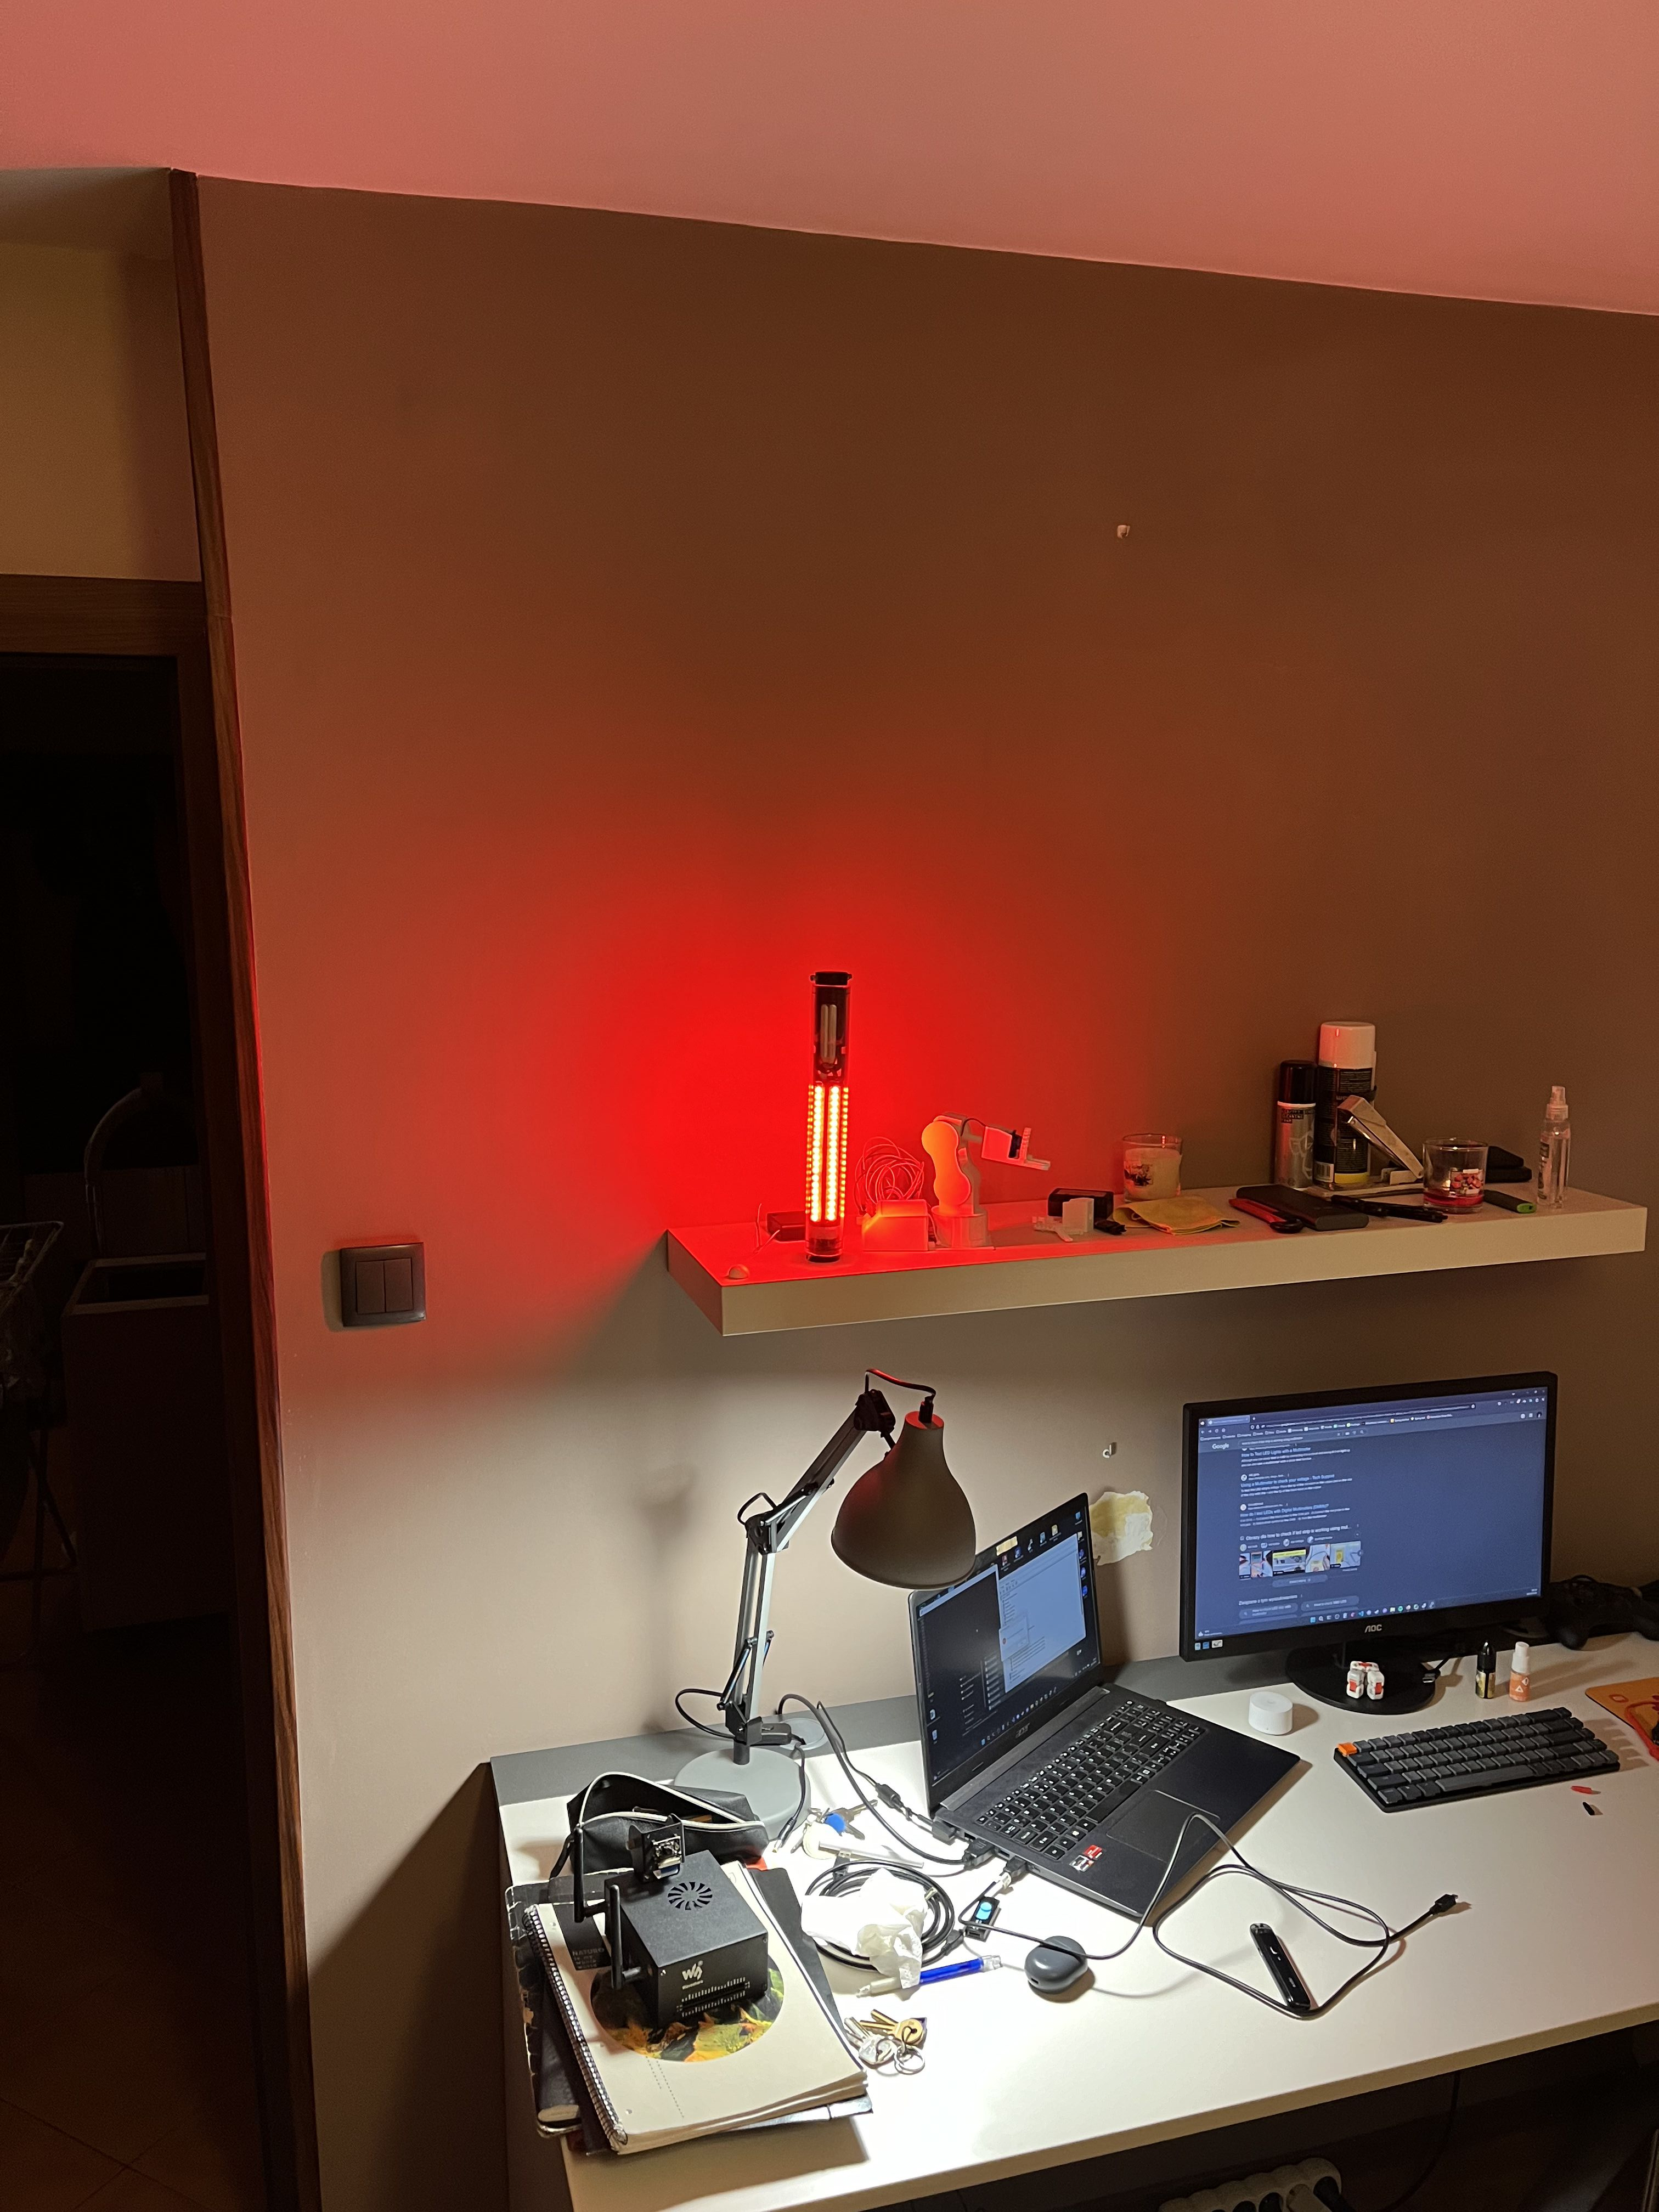red: (809, 981, 847, 1264)
